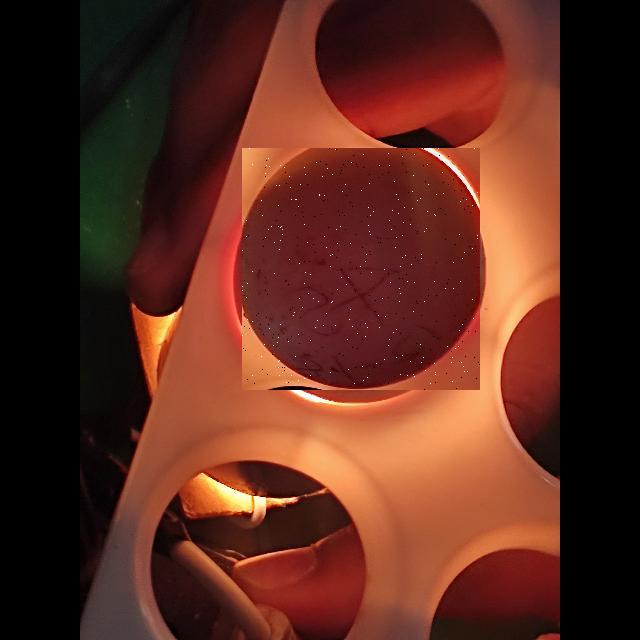Fertile: (242, 148, 480, 390)
